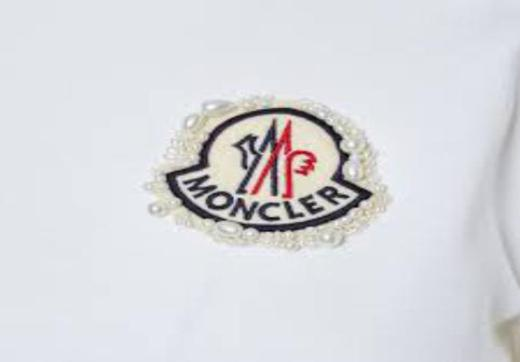MONCLER: (229, 118, 320, 202)
